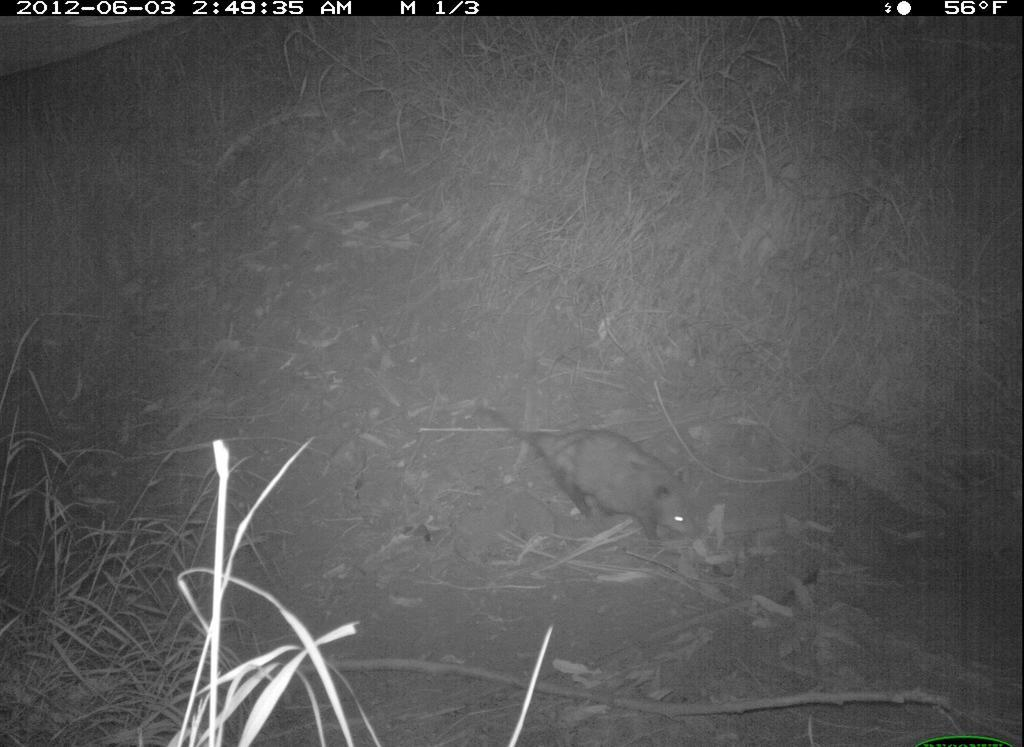opossum: (465, 393, 717, 559)
